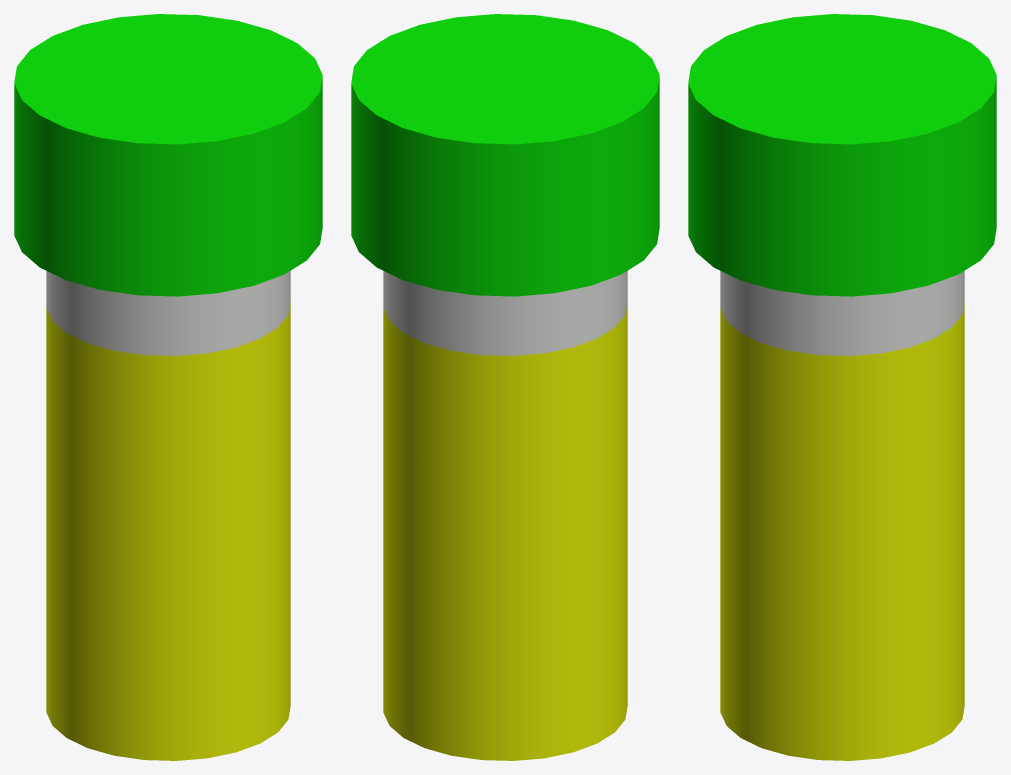
Rendered from 5 JARS.fbx.
3 views of the same model, side by side, from view 1: azimuth 30°, elevation 25°; view 2: azimuth 150°, elevation 25°; view 3: azimuth 270°, elevation 25° (orthographic).
Visible parts, largest first — view 1: 5 JARS; view 2: 5 JARS; view 3: 5 JARS.
Boxes of the visible parts, bbox=[...] form: 5 JARS: bbox=[14, 14, 322, 760]; 5 JARS: bbox=[351, 14, 659, 760]; 5 JARS: bbox=[688, 14, 996, 760].
Size of the model in its own units: 3.99 by 8.98 by 3.99.
